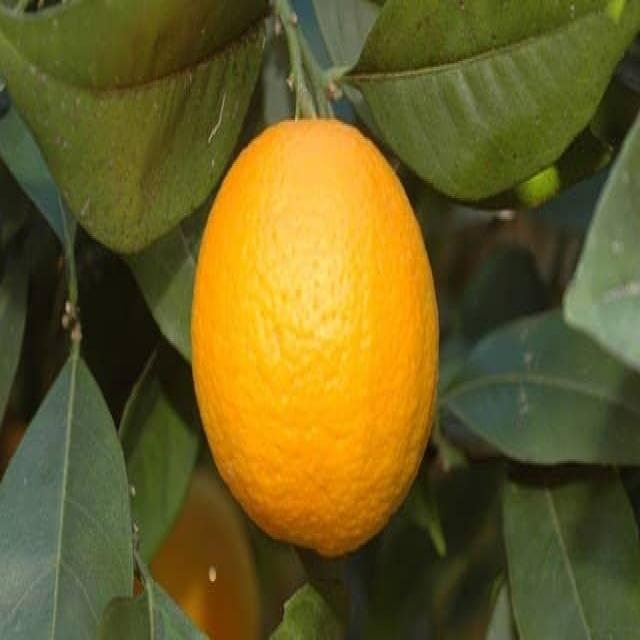orange: (193, 115, 443, 569)
